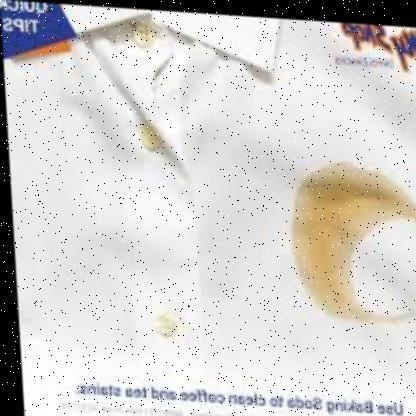coffee: (290, 162, 351, 303), (353, 170, 401, 219)
